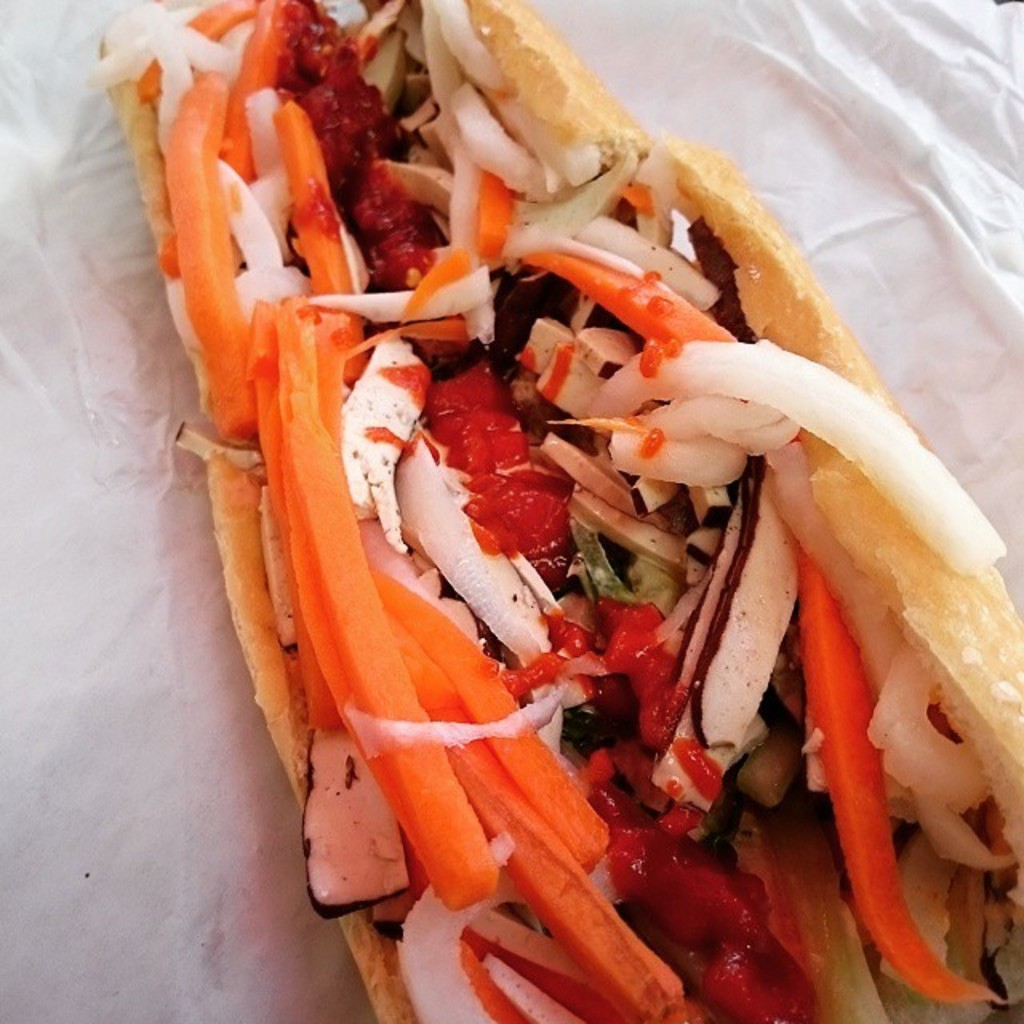salad: (115, 0, 1022, 1022)
